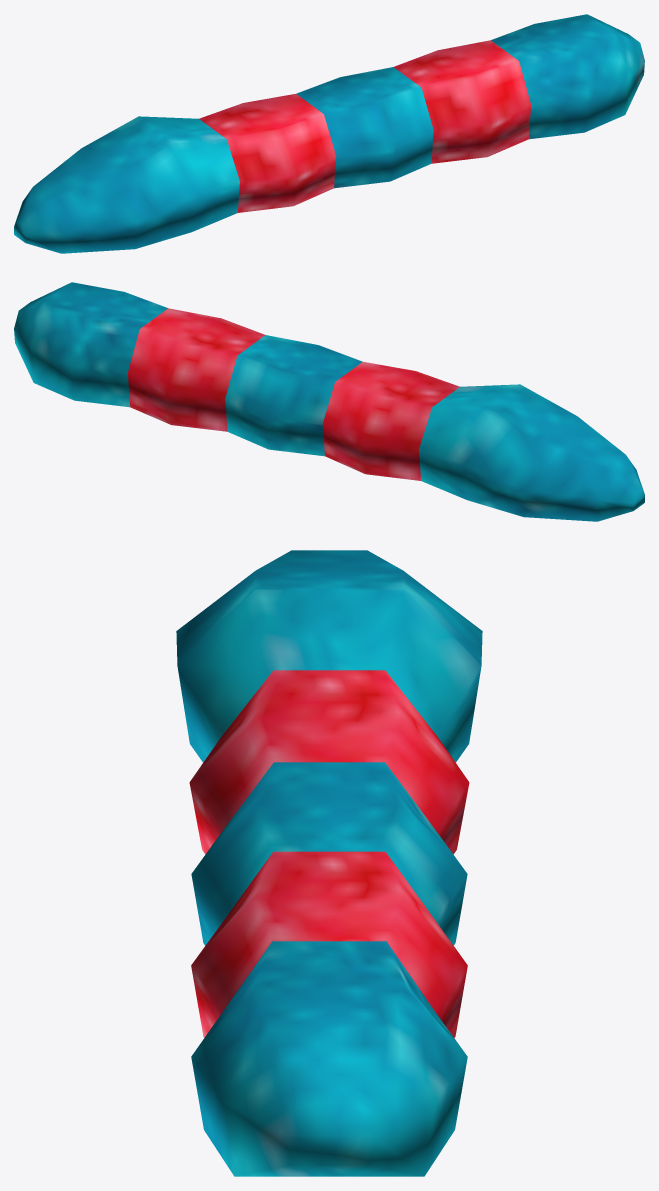
Rendered from Jelly_worm.fbx.
3 renders of one model, top to bottom at view 1: azimuth 30°, elevation 25°; view 2: azimuth 150°, elevation 25°; view 3: azimuth 270°, elevation 25°, orthographic. The views are drawn at different scales.
Parts seen in each view (by area): view 1: Jelly_worm; view 2: Jelly_worm; view 3: Jelly_worm.
Part boxes in pixels (x1,y1,x2,y2): Jelly_worm: (14, 14, 644, 253); Jelly_worm: (14, 282, 644, 521); Jelly_worm: (176, 550, 482, 1176).
Bounding box in the file's own units: 12.37 × 1.58 × 2.67.
